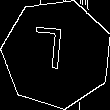L_S: (39, 27, 75, 81)
